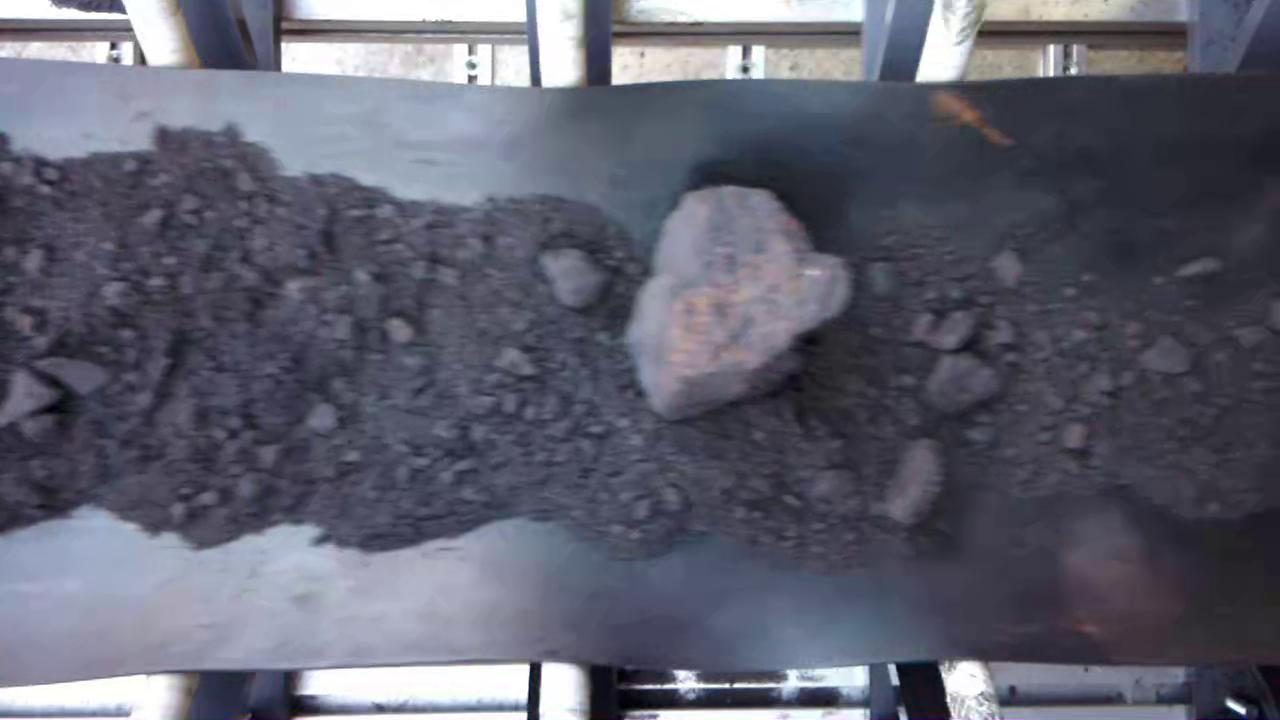conveyor: (3, 87, 1280, 655)
